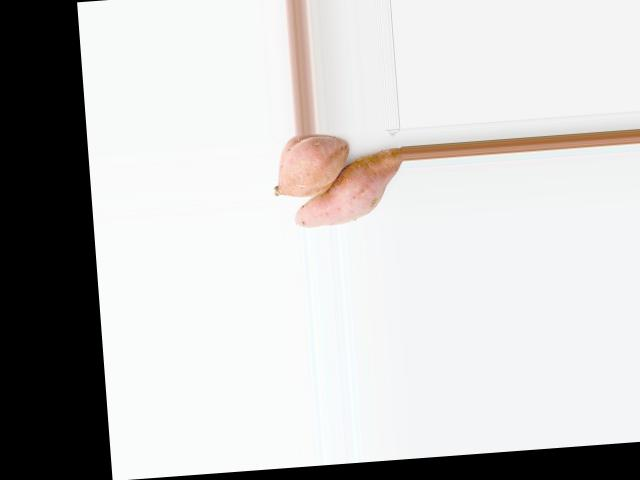sweet_potato: (269, 139, 347, 193)
